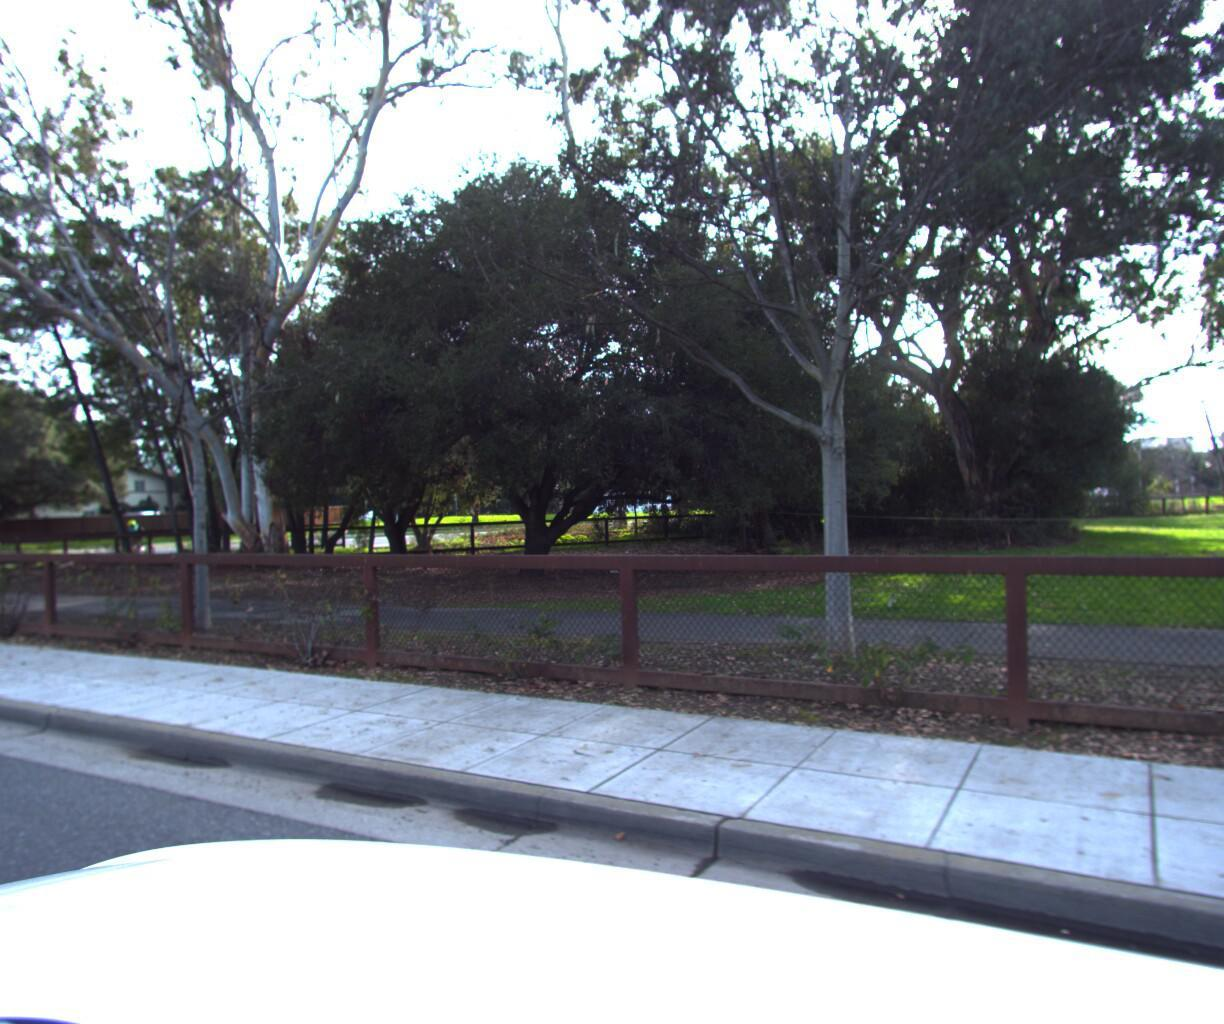bicycle: (107, 519, 158, 559)
